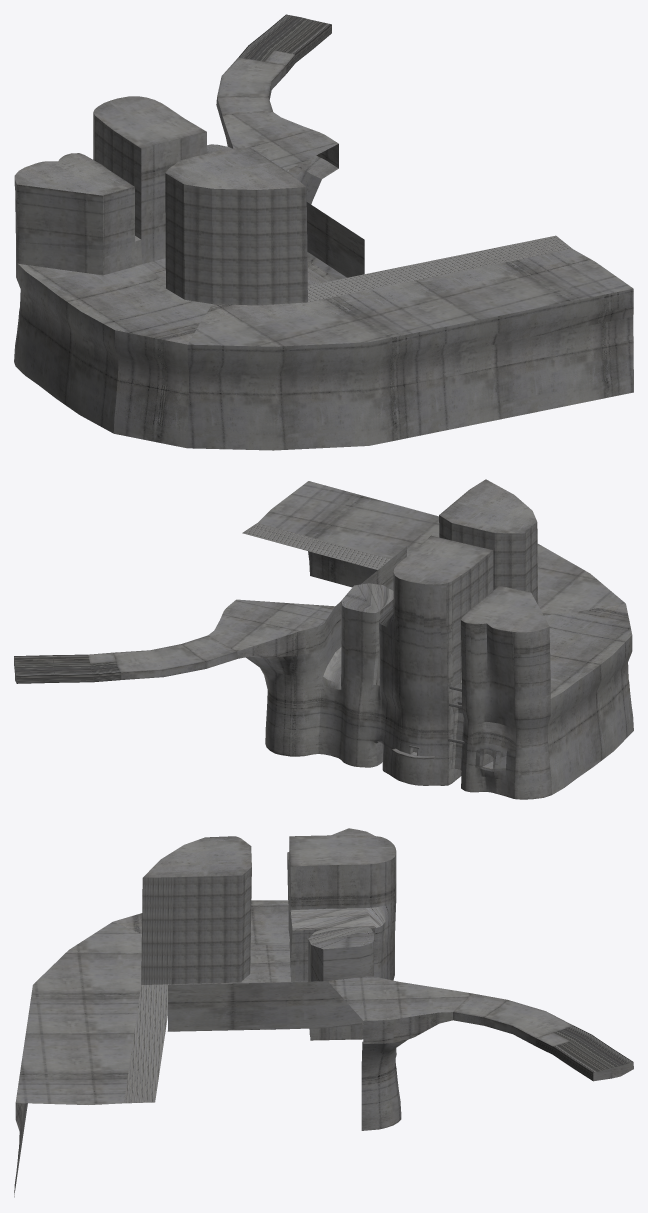
Rendered from SM_BetonDarme_01_01.fbx.
The picture shows the model from 3 angles, top to bottom: view 1: azimuth 30°, elevation 25°; view 2: azimuth 150°, elevation 25°; view 3: azimuth 270°, elevation 25°; orthographic projection. The views are drawn at different scales.
Parts seen in each view (by area): view 1: SM_BetonDarme_01_01; view 2: SM_BetonDarme_01_01; view 3: SM_BetonDarme_01_01.
Boxes of the visible parts, x1,y1,x2,y2 form: SM_BetonDarme_01_01: [14, 14, 633, 450]; SM_BetonDarme_01_01: [14, 479, 633, 799]; SM_BetonDarme_01_01: [14, 828, 633, 1197].
Bounding box in the file's own units: 19192 × 8957 × 24521.
